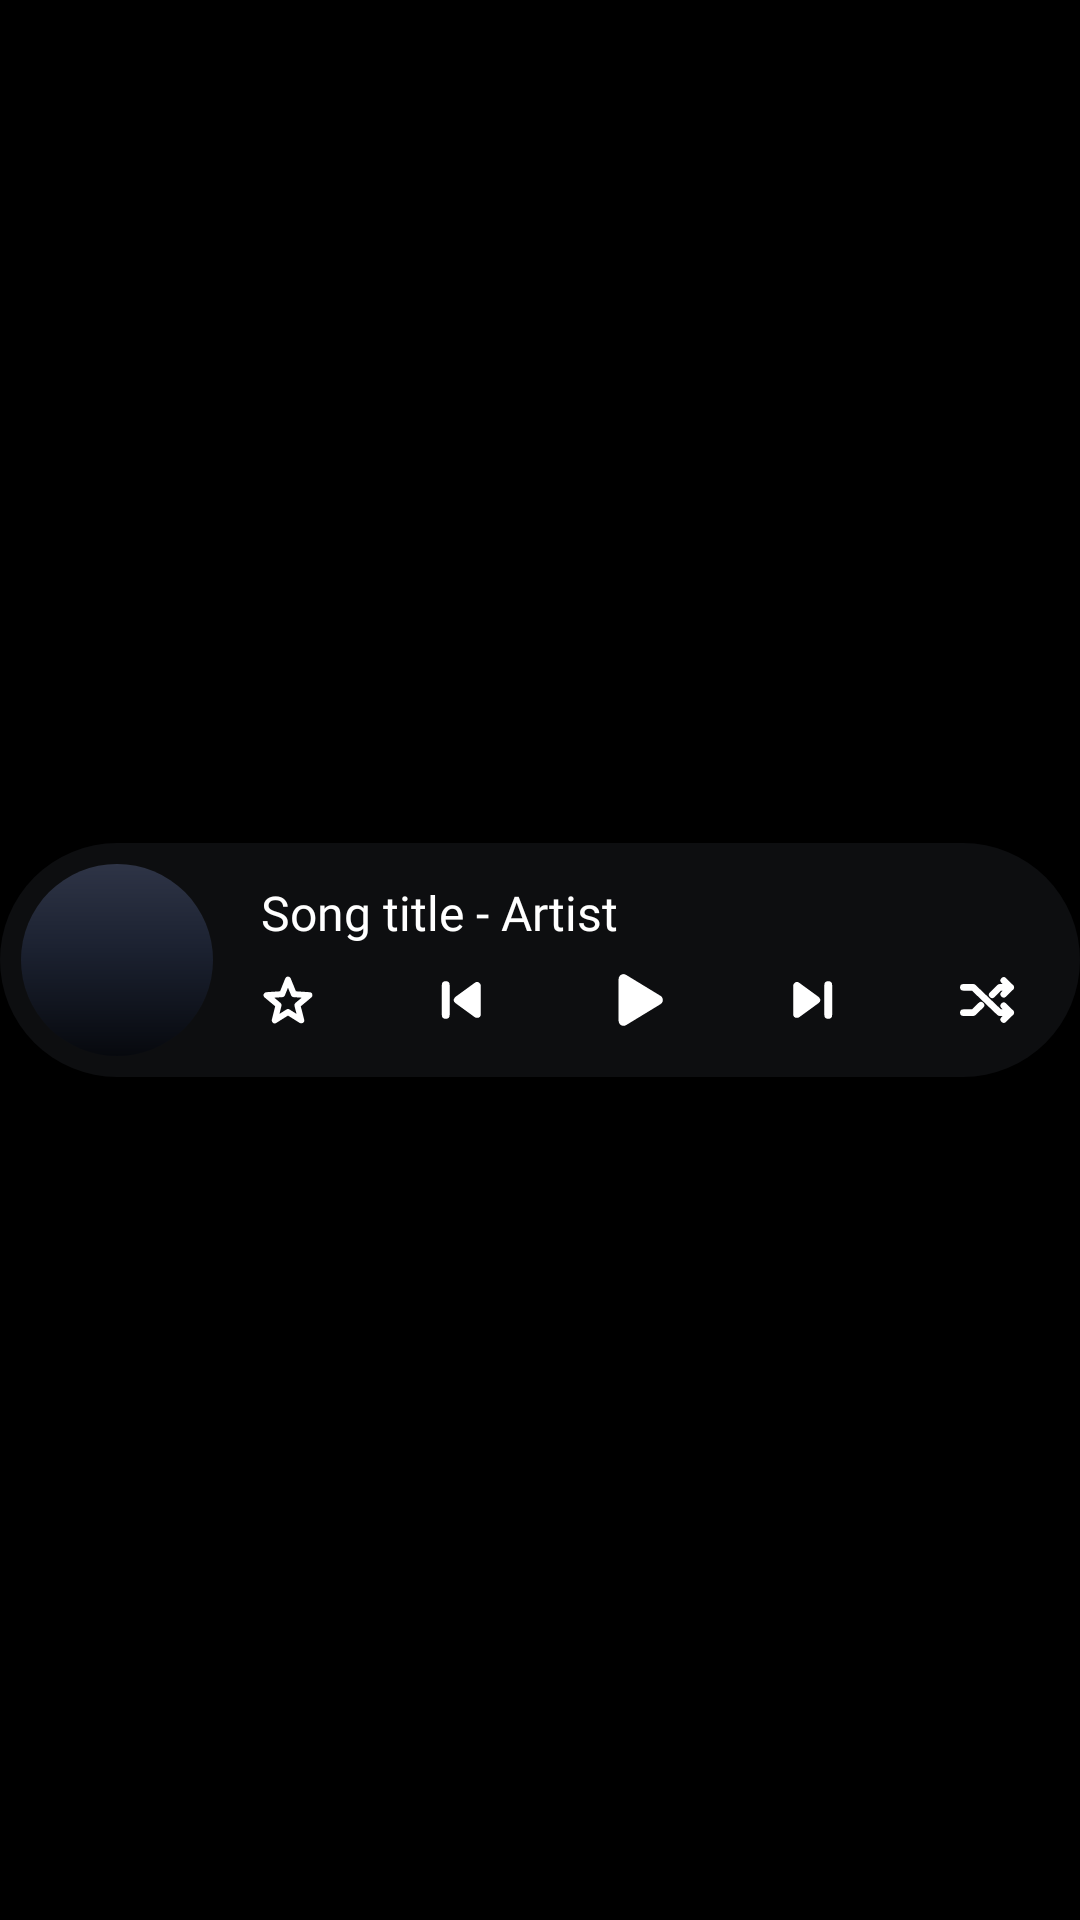

Where icons sit on this 1080px×1920px app screen, as [left=x1, top=y1, right=x2, bottom=y2]:
Like: [left=263, top=976, right=313, bottom=1024]
Next: [left=793, top=981, right=833, bottom=1019]
Play: [left=618, top=974, right=663, bottom=1026]
Previous: [left=441, top=981, right=481, bottom=1019]
Shuffle off: [left=960, top=977, right=1014, bottom=1023]
